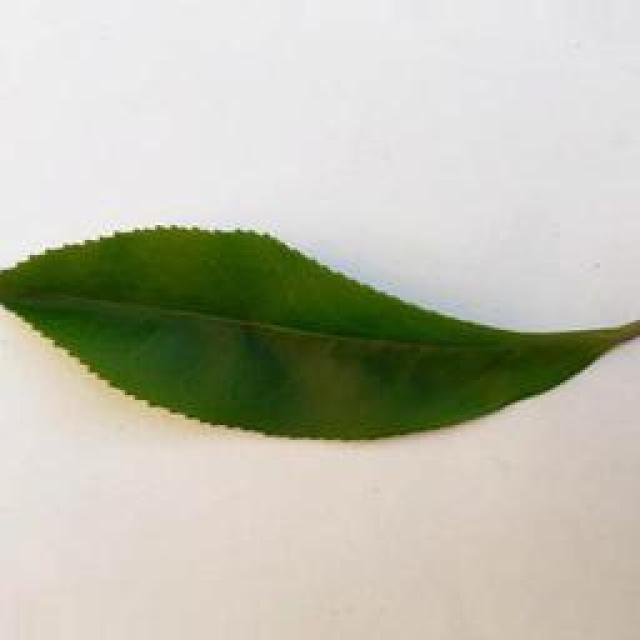Healthy: (2, 212, 640, 468)
